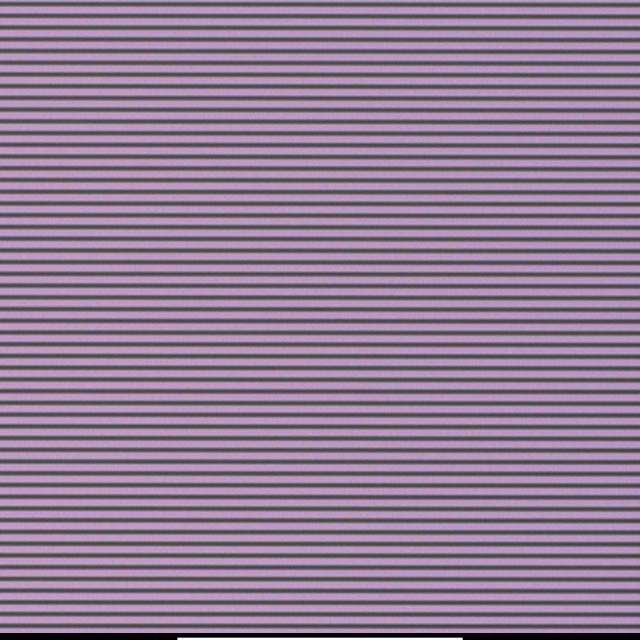nonvisual: (310, 306, 320, 314)
